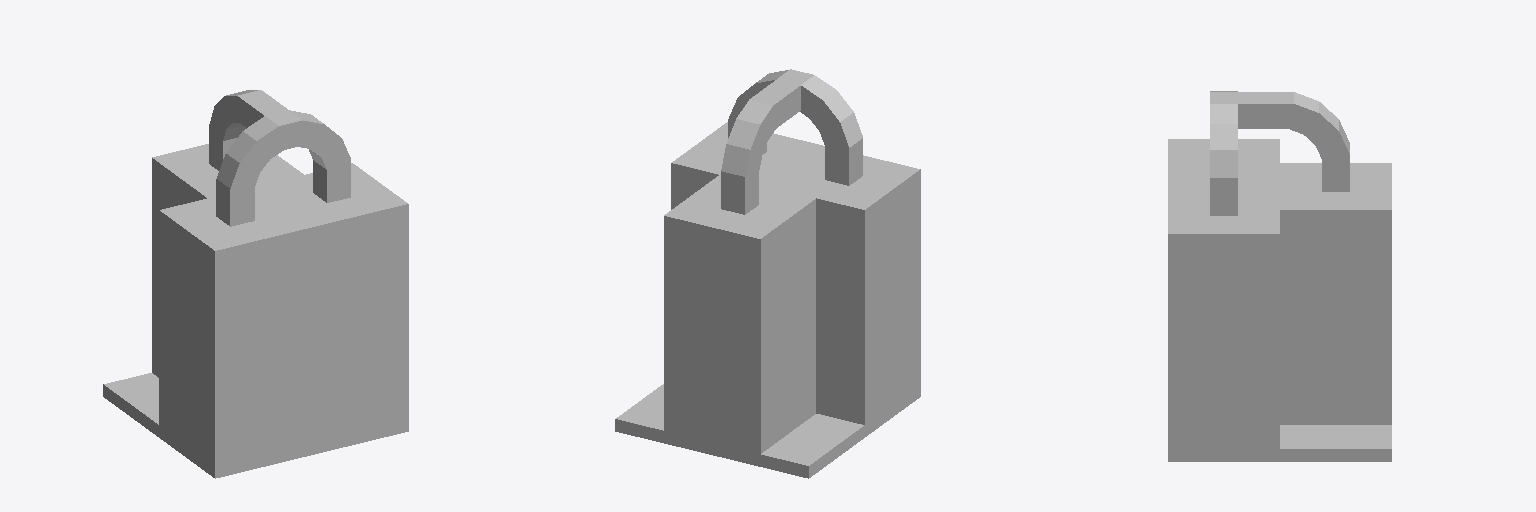
File: oilrefiner.obj
The picture shows the model from 3 angles: view 1: azimuth 30°, elevation 25°; view 2: azimuth 150°, elevation 25°; view 3: azimuth 270°, elevation 25°; orthographic projection.
Parts seen in each view (by area): view 1: CubeFront.001, CubeFront.000, cube.001, cube, cube.002, cube.000, CubeFront, cube.005, cube.004, cube.016, cube.012, cube.011 (+5 smaller); view 2: CubeFront, CubeFront.001, cube, cube.000, cube.001, cube.002, cube.003, cube.005, cube.016, cube.007, cube.006, cube.012 (+4 smaller); view 3: CubeFront.000, CubeFront, cube.000, cube.002, cube, cube.001, cube.016, cube.004, cube.003, cube.014, cube.009, cube.008 (+3 smaller).
Part boxes in pixels (bbox=[...]): CubeFront.001: bbox=[159, 223, 311, 465]; CubeFront.000: bbox=[312, 217, 408, 441]; cube.001: bbox=[159, 187, 311, 263]; cube: bbox=[103, 373, 408, 478]; cube.002: bbox=[256, 163, 408, 239]; cube.000: bbox=[152, 144, 303, 200]; CubeFront: bbox=[152, 171, 194, 377]; cube.005: bbox=[216, 179, 254, 226]; cube.004: bbox=[313, 160, 350, 202]; cube.016: bbox=[237, 90, 287, 127]; cube.012: bbox=[244, 116, 287, 161]; cube.011: bbox=[226, 131, 271, 175]; CubeFront: bbox=[664, 212, 815, 453]; CubeFront.001: bbox=[816, 182, 920, 424]; cube: bbox=[615, 384, 920, 478]; cube.000: bbox=[664, 175, 815, 251]; cube.001: bbox=[768, 146, 920, 222]; cube.002: bbox=[671, 122, 822, 185]; cube.003: bbox=[721, 167, 758, 214]; cube.005: bbox=[825, 138, 862, 185]; cube.016: bbox=[749, 79, 800, 129]; cube.007: bbox=[819, 113, 862, 151]; cube.006: bbox=[721, 144, 762, 176]; cube.012: bbox=[800, 75, 835, 120]; CubeFront.000: bbox=[1168, 246, 1279, 448]; CubeFront: bbox=[1280, 223, 1391, 424]; cube.000: bbox=[1280, 163, 1391, 222]; cube.002: bbox=[1168, 187, 1279, 245]; cube: bbox=[1168, 425, 1391, 461]; cube.001: bbox=[1168, 139, 1279, 186]; cube.016: bbox=[1238, 92, 1293, 128]; cube.004: bbox=[1210, 178, 1237, 215]; cube.003: bbox=[1322, 155, 1349, 191]; cube.014: bbox=[1284, 92, 1318, 136]; cube.009: bbox=[1300, 102, 1338, 148]; cube.008: bbox=[1210, 150, 1237, 177].
Bounding box in the file's own units: 1 × 1.56 × 1.